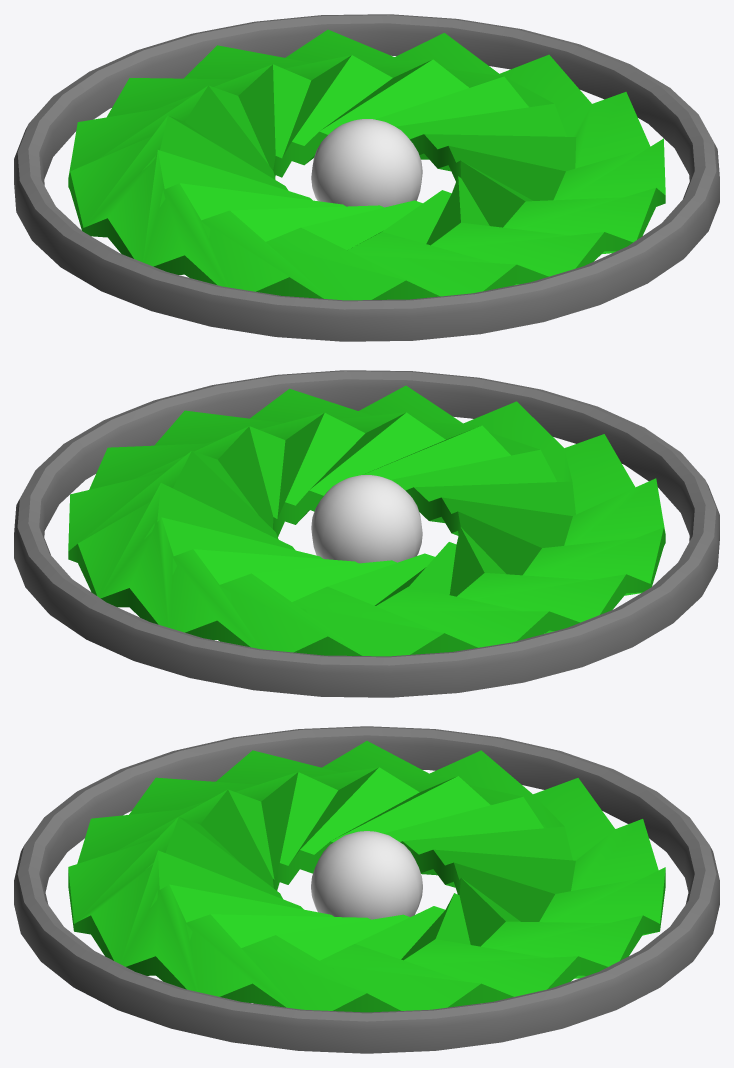
Rendered from inPortal.fbx.
3 views of the same model, one above another, from view 1: azimuth 30°, elevation 25°; view 2: azimuth 150°, elevation 25°; view 3: azimuth 270°, elevation 25° (orthographic).
Visible parts, largest first — view 1: inPortal; view 2: inPortal; view 3: inPortal.
Part boxes in pixels (left/top/right/bottom): inPortal: left=14, top=14, right=719, bottom=341; inPortal: left=14, top=370, right=719, bottom=697; inPortal: left=14, top=726, right=719, bottom=1053.
Size of the model in its own units: 152 by 24.23 by 152.
